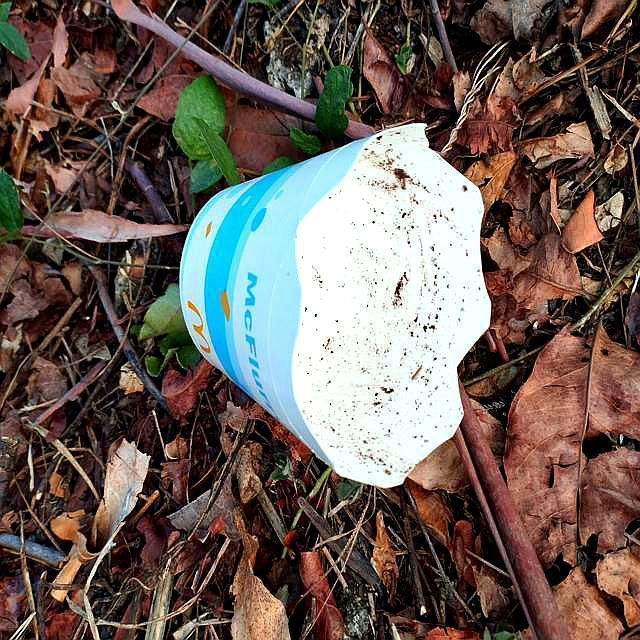Biodegradable: (183, 127, 491, 489)
